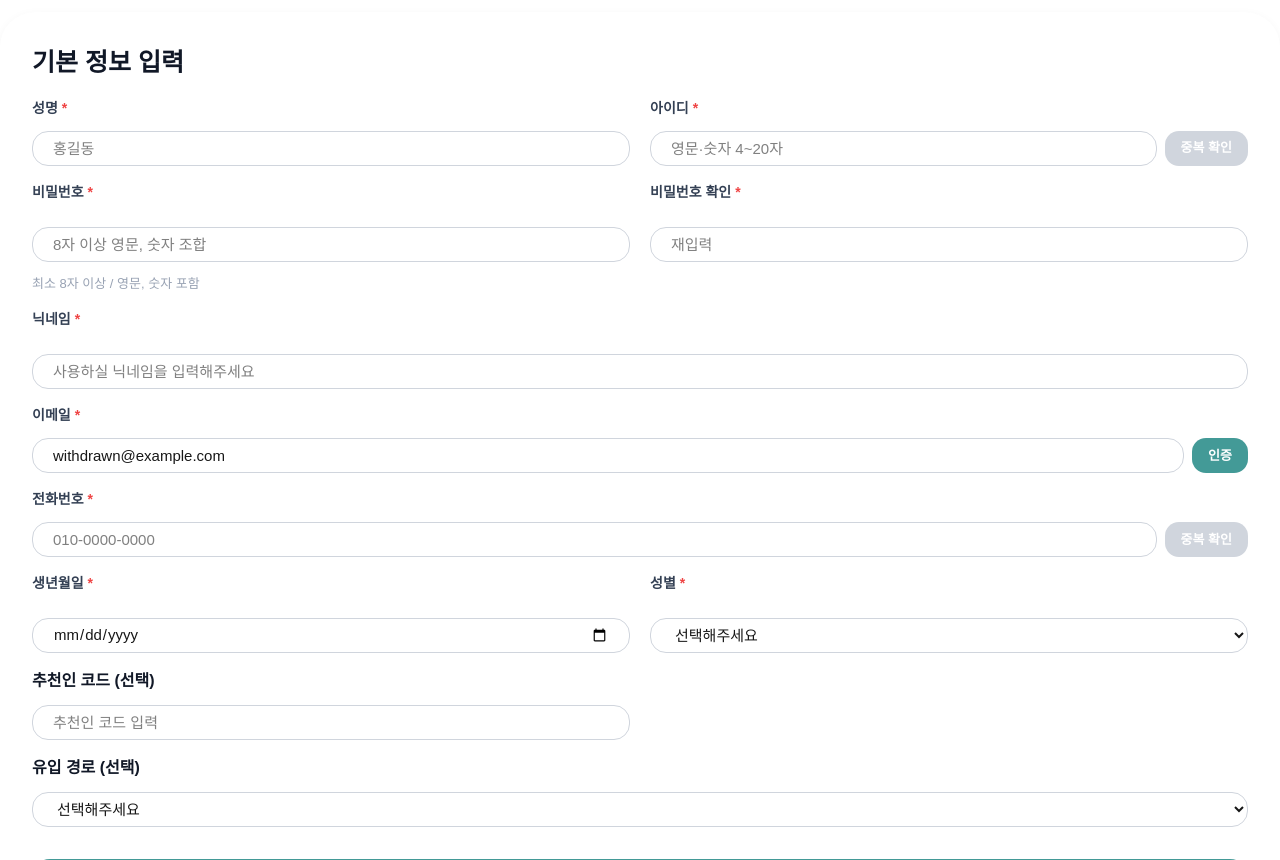
Test case: RegisterInfoForm 컴포넌트 테스트 › 최근 탈퇴한 이메일이면 서버의 재가입 제한 문구를 그대로 보여준다
Click the button with aria-label "인증: 이메일 인증번호 발송" at x=1220, y=456, box x1=1192 y1=438 x2=1248 y2=473
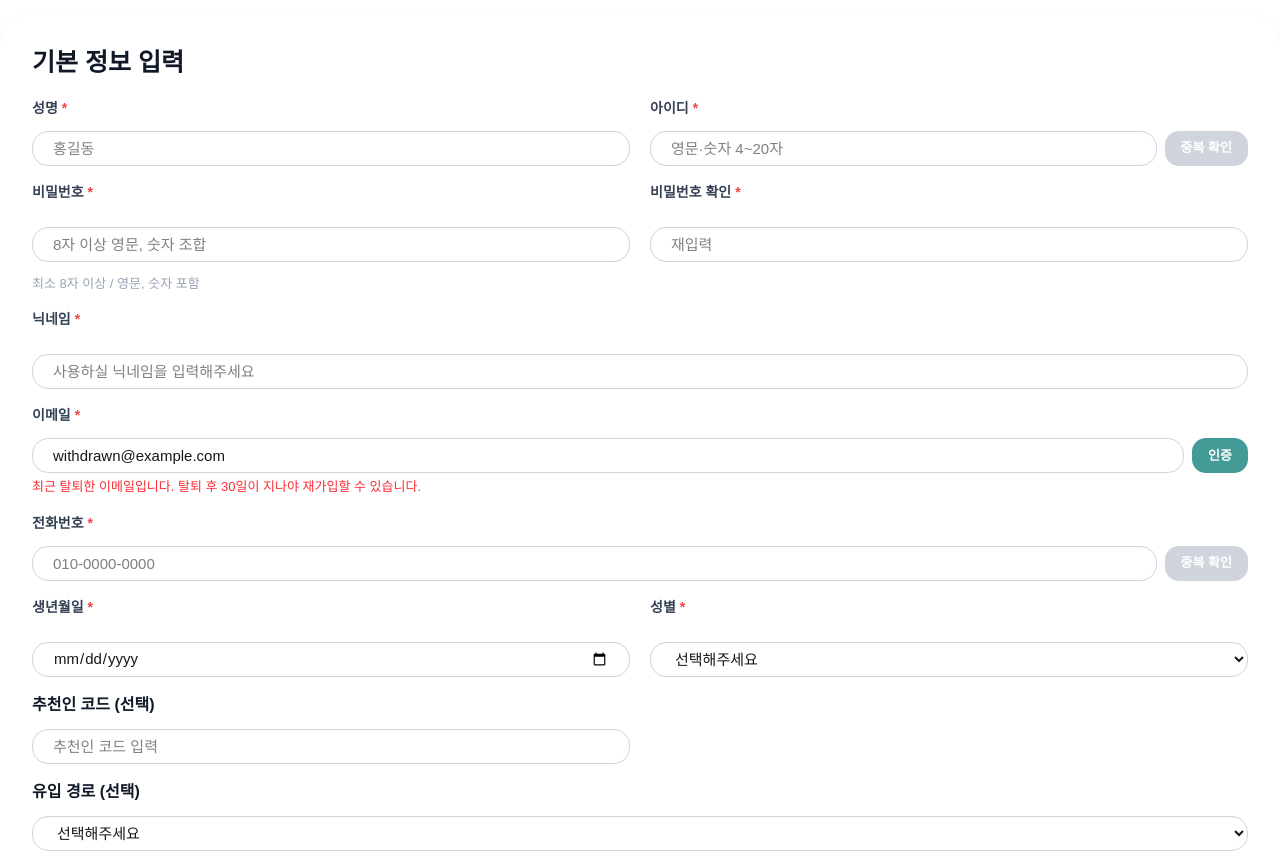
Check: the text "최근 탈퇴한 이메일입니다. 탈퇴 후 30일이 지나야 재가입할 수 있습니다." is shown, box x1=32 y1=479 x2=421 y2=494
